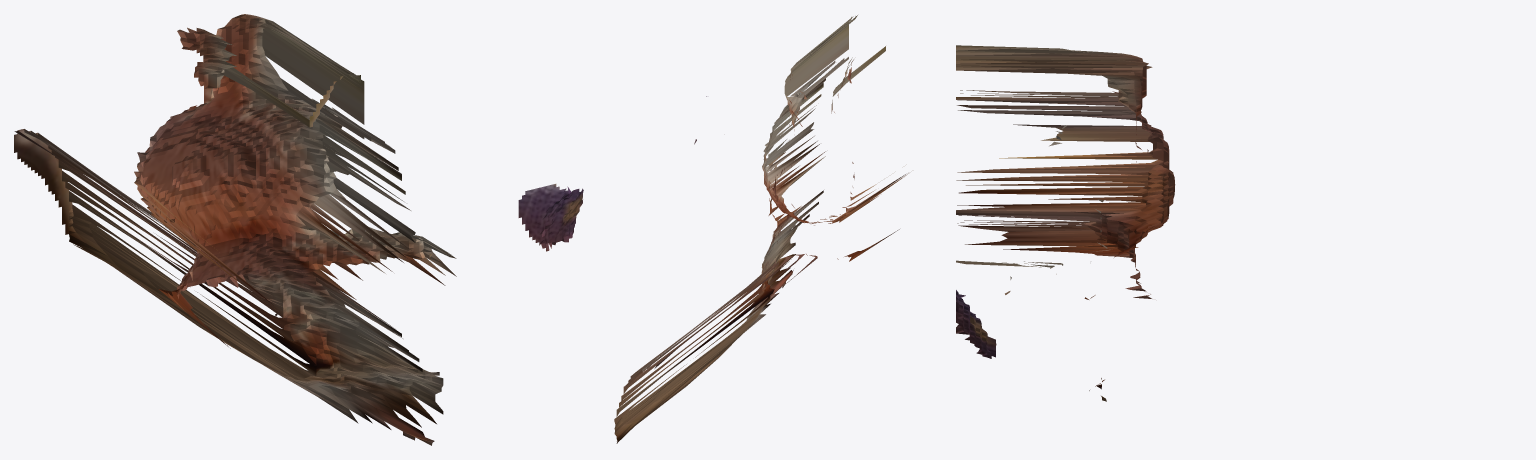
Rendered from frame_00326.glb.
3 views of the same model, side by side, from view 1: azimuth 30°, elevation 25°; view 2: azimuth 150°, elevation 25°; view 3: azimuth 270°, elevation 25° (orthographic). The views are drawn at different scales.
Visible parts, largest first — view 1: geometry_0; view 2: geometry_0; view 3: geometry_0.
Boxes of the visible parts, <box> form: geometry_0: <box>14,14,583,445</box>; geometry_0: <box>614,15,908,443</box>; geometry_0: <box>956,45,1175,401</box>.
Bounding box in the file's own units: 0.103 × 0.1154 × 0.16.
1 material, 1 textured.
